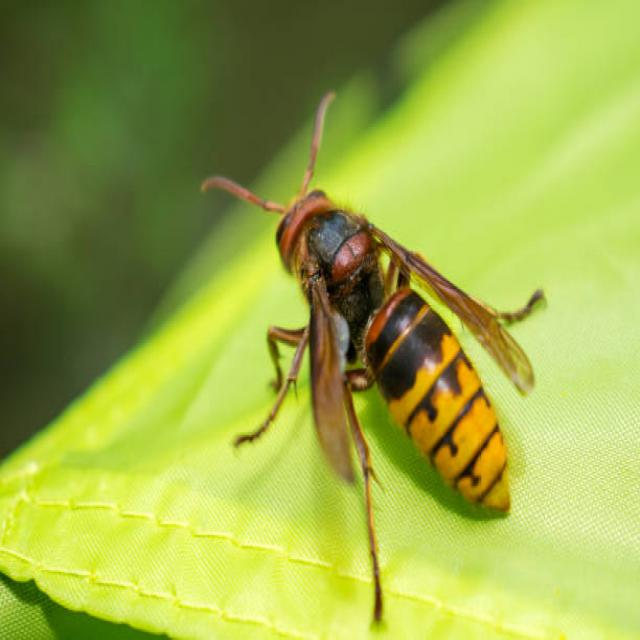Vespa Crabro: (187, 83, 562, 616)
